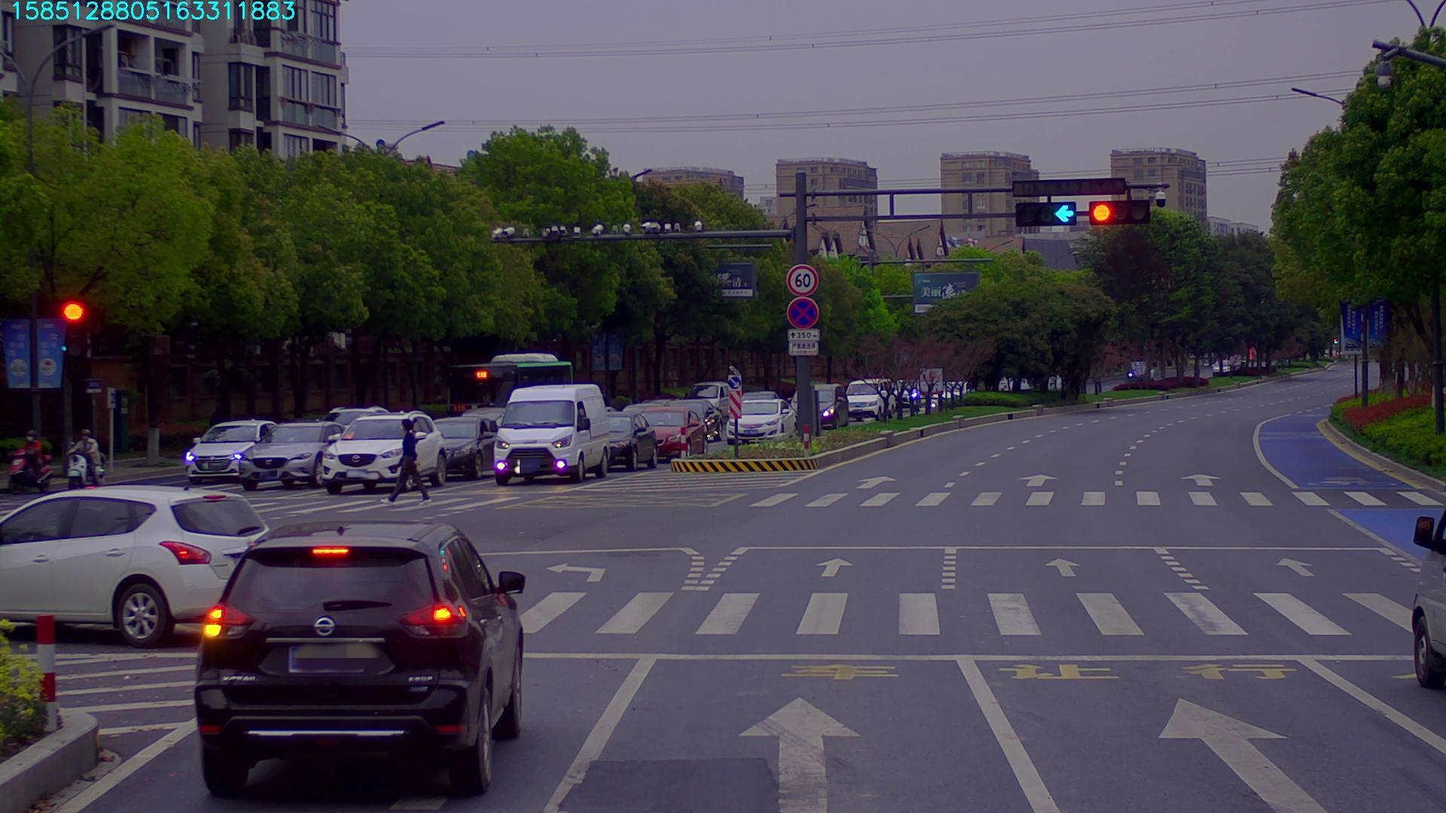green: (1016, 205, 1072, 226)
red: (1094, 202, 1161, 226)
